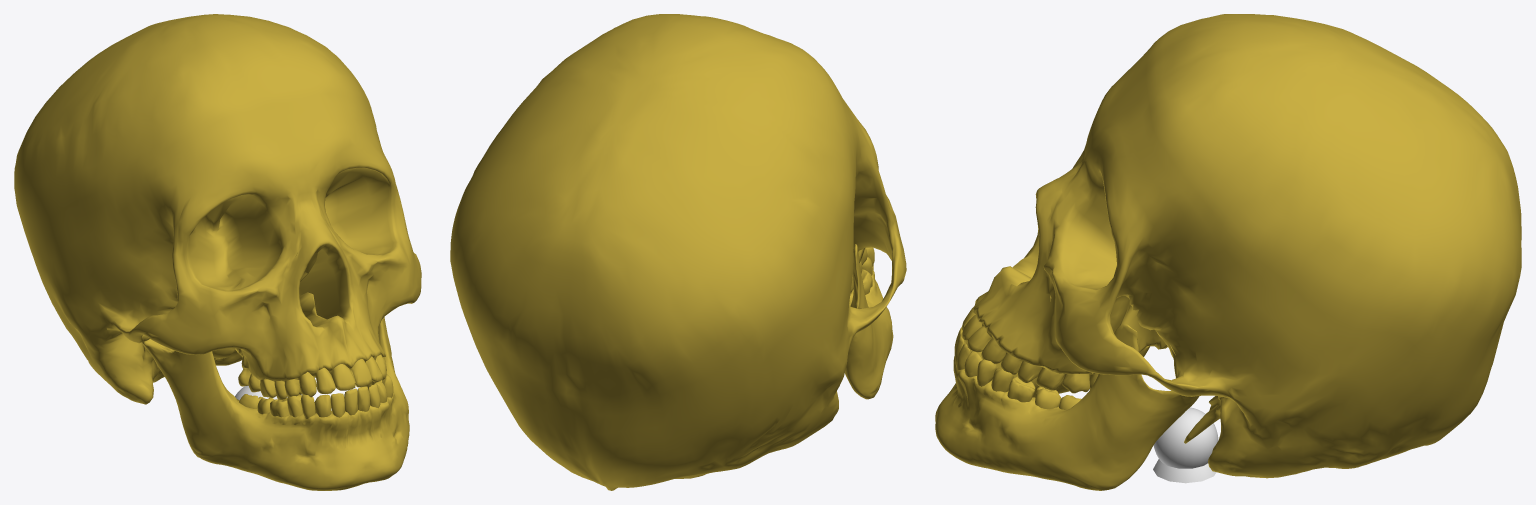
File: skull.fbx
3 renders of one model, left to right at view 1: azimuth 30°, elevation 25°; view 2: azimuth 150°, elevation 25°; view 3: azimuth 270°, elevation 25°, orthographic. The views are drawn at different scales.
Parts seen in each view (by area): view 1: Skull; view 2: Skull; view 3: Skull, Sphere, Cone.
Part boxes in pixels (x1,y1,x2,y2): Skull: (14, 14, 421, 490); Skull: (450, 14, 906, 490); Skull: (935, 14, 1521, 490); Sphere: (1153, 407, 1218, 468); Cone: (1153, 459, 1216, 483).
Bounding box in the file's own units: 6.19 × 7.36 × 8.96.
